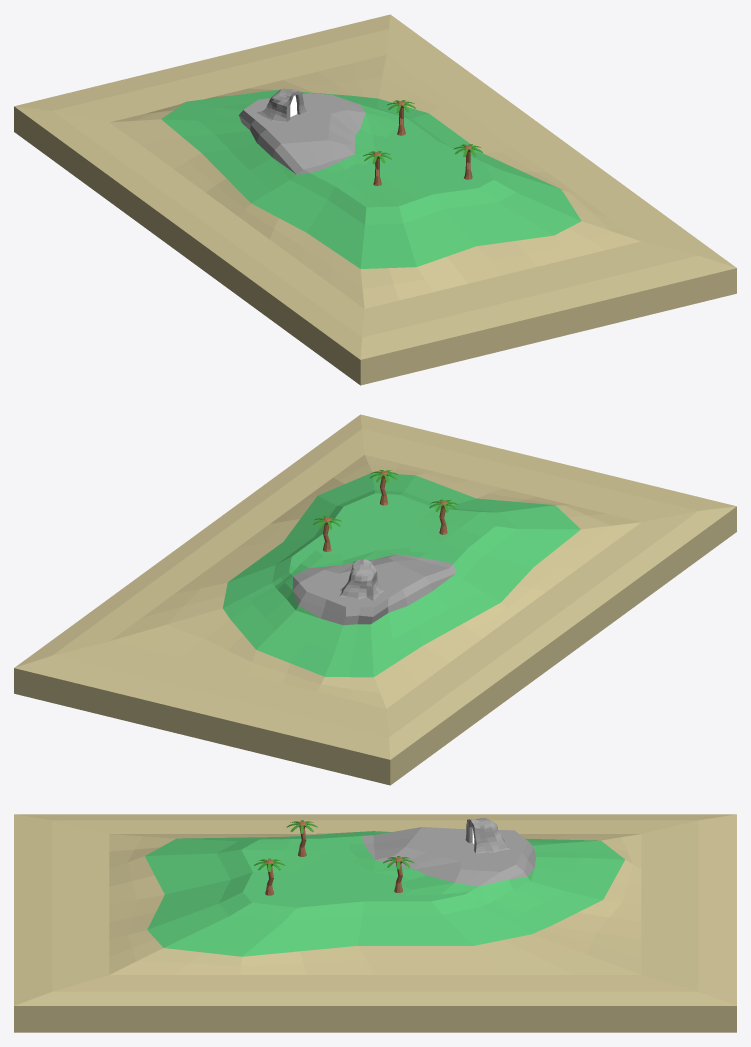
The model's file is island2.glb.
3 views of the same model, one above another, from view 1: azimuth 30°, elevation 25°; view 2: azimuth 150°, elevation 25°; view 3: azimuth 270°, elevation 25° (orthographic). The views are drawn at different scales.
Parts seen in each view (by area): view 1: Cube, Cube.001; view 2: Cube, Cube.001; view 3: Cube, Cube.001, Cube.003, Cube.005, Cube.004.
Part boxes in pixels (x1,y1,x2,y2): Cube: (14,14,736,385); Cube.001: (256,88,307,122); Cube: (14,414,736,785); Cube.001: (339,559,383,601); Cube: (14,814,736,1032); Cube.001: (465,818,510,853); Cube.003: (254,858,285,895); Cube.005: (286,820,317,856); Cube.004: (383,856,414,892).
Bounding box in the file's own units: 19.59 × 4.73 × 31.23.
